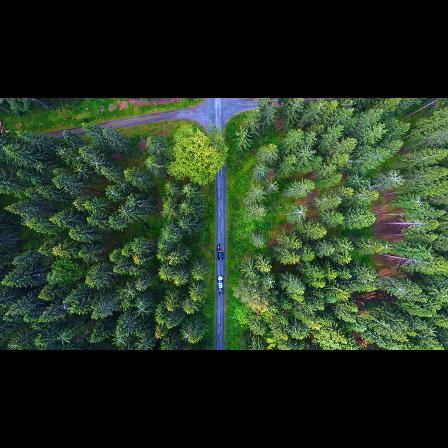Sick: (290, 199, 310, 228), (52, 325, 76, 347), (299, 143, 320, 163), (385, 168, 405, 187), (115, 203, 134, 222), (262, 178, 280, 196), (70, 163, 88, 180), (262, 276, 279, 291), (122, 284, 137, 300), (56, 144, 72, 158), (106, 186, 120, 200), (136, 298, 149, 308)
